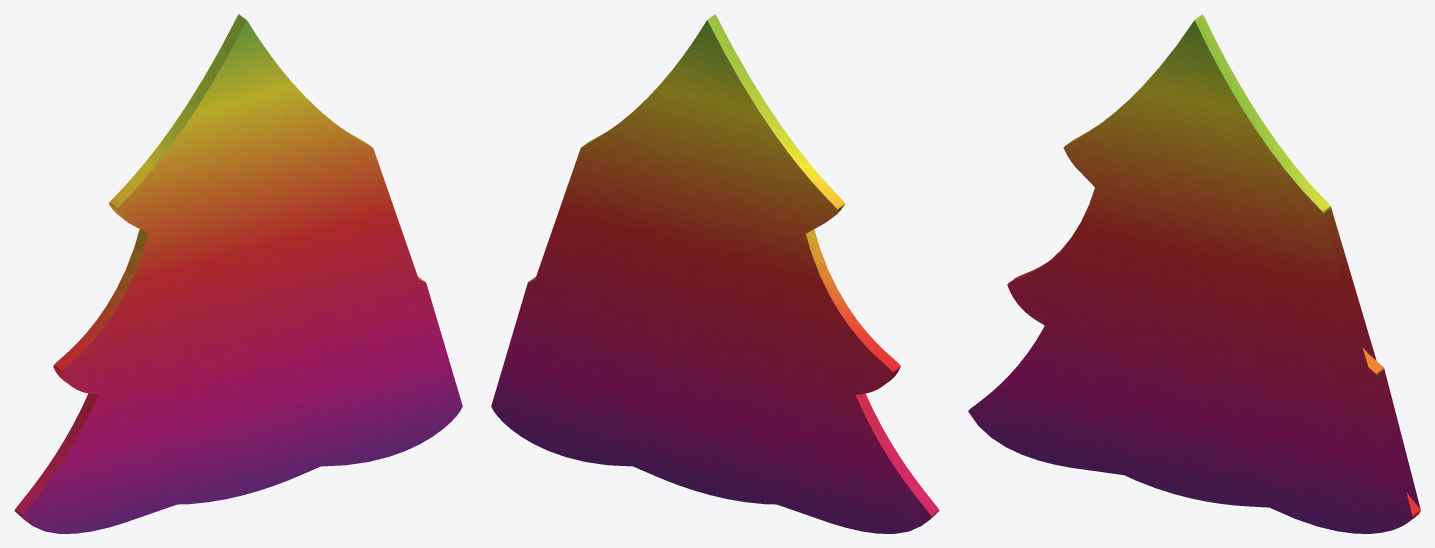
Rendered from MiniTree.obj.
3 views of the same model, side by side, from view 1: azimuth 30°, elevation 25°; view 2: azimuth 150°, elevation 25°; view 3: azimuth 330°, elevation 25° (orthographic).
Visible parts, largest first — view 1: BezierCurve.001_CUBezierCurve.006; view 2: BezierCurve.001_CUBezierCurve.006; view 3: BezierCurve.001_CUBezierCurve.006.
Part boxes in pixels (x1,y1,x2,y2): BezierCurve.001_CUBezierCurve.006: (14, 14, 462, 533); BezierCurve.001_CUBezierCurve.006: (491, 14, 939, 533); BezierCurve.001_CUBezierCurve.006: (968, 14, 1420, 533).
Size of the model in its own units: 0.4646 by 0.4789 by 0.0154.
Materials: 1 (1 with a texture image).
